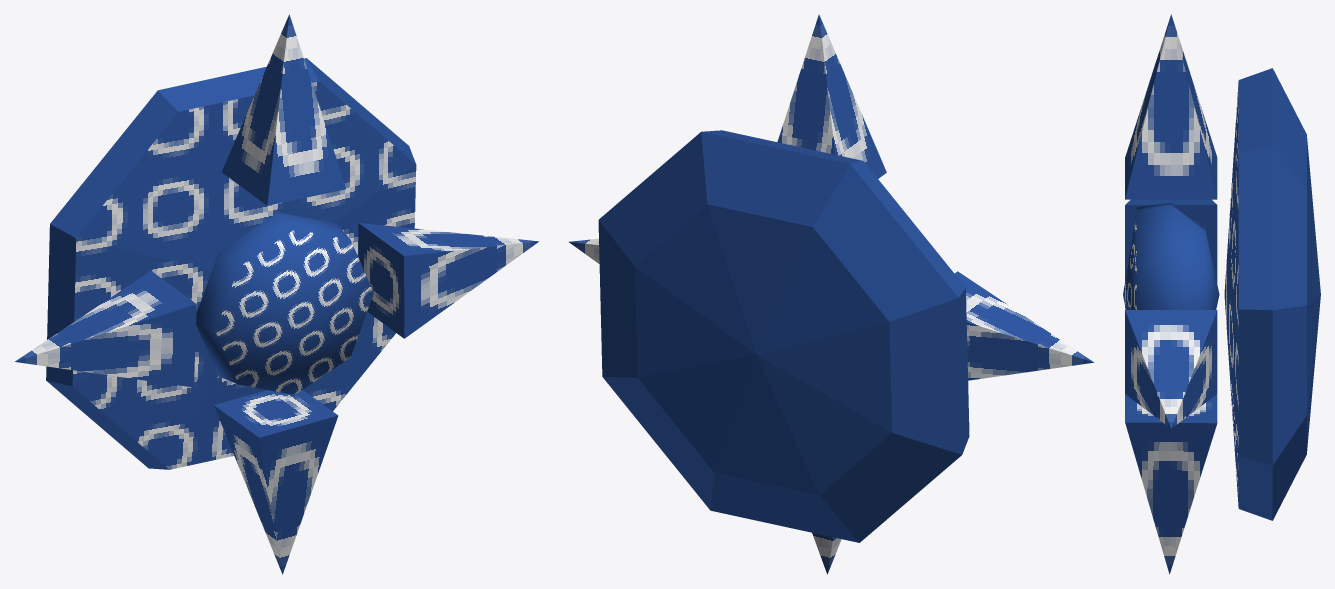
Rendered from uiMinimapMarkGate.FBX.
The picture shows the model from 3 angles, left to right: view 1: azimuth 30°, elevation 25°; view 2: azimuth 150°, elevation 25°; view 3: azimuth 270°, elevation 25°; orthographic projection.
Parts seen in each view (by area): view 1: Sphere001; view 2: Sphere001; view 3: Sphere001.
Boxes of the visible parts, x1,y1,x2,y2 form: Sphere001: (15,14,538,574); Sphere001: (569,14,1093,574); Sphere001: (1123,14,1320,574).
Size of the model in its own units: 3.32 by 3.37 by 1.07.
